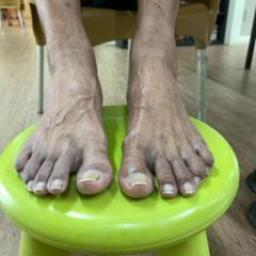Dorsal View -Both Feet-: (6, 26, 230, 225)
